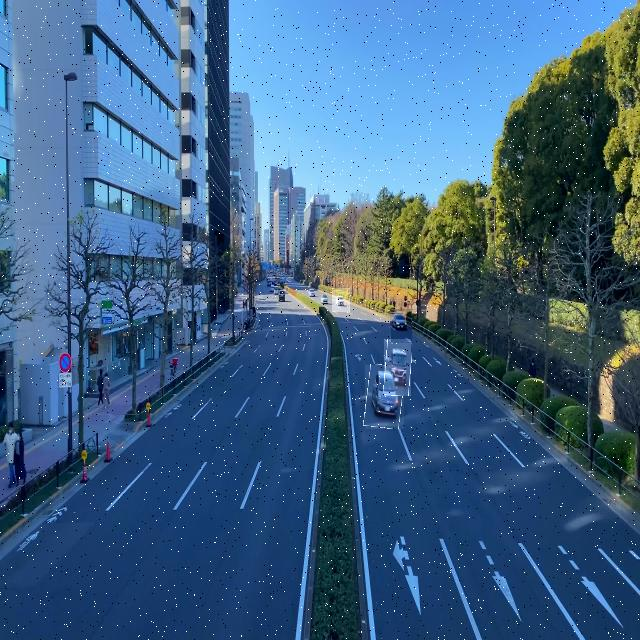Car: (365, 365, 404, 429), (384, 340, 411, 396), (390, 310, 412, 344), (332, 288, 350, 312)
